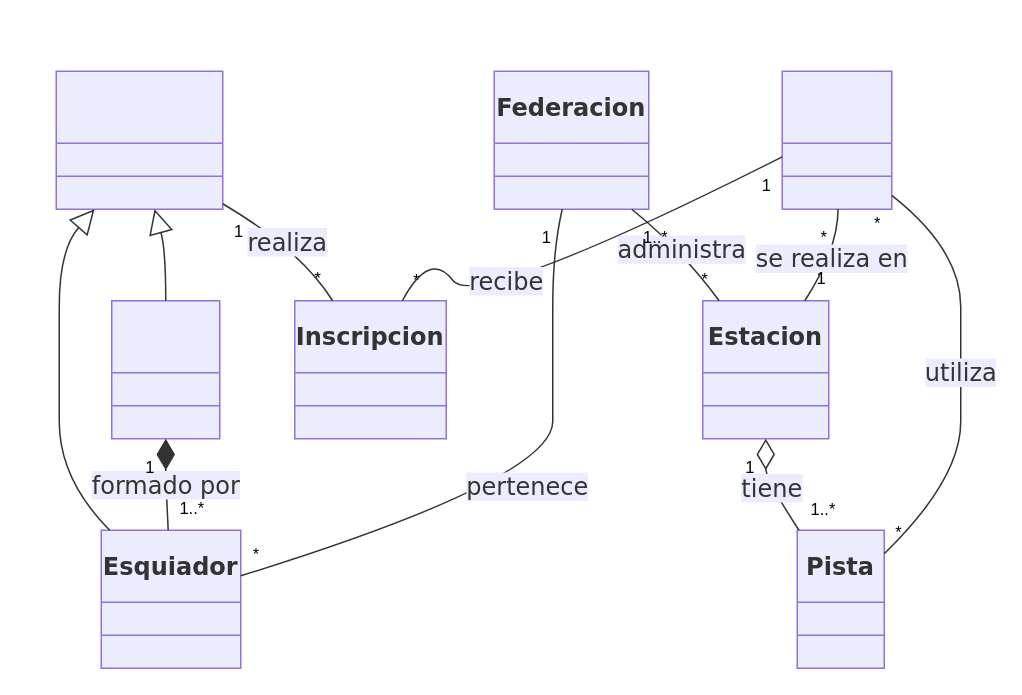
Some shapes in this 1022 by 695 pixel diagram are drawn without their labels. Each missing label, with the centre of its shape:
"Equipo" belongs at [165,369].
"Participante" belongs at [139,139].
"Prueba" belongs at [836,139].
